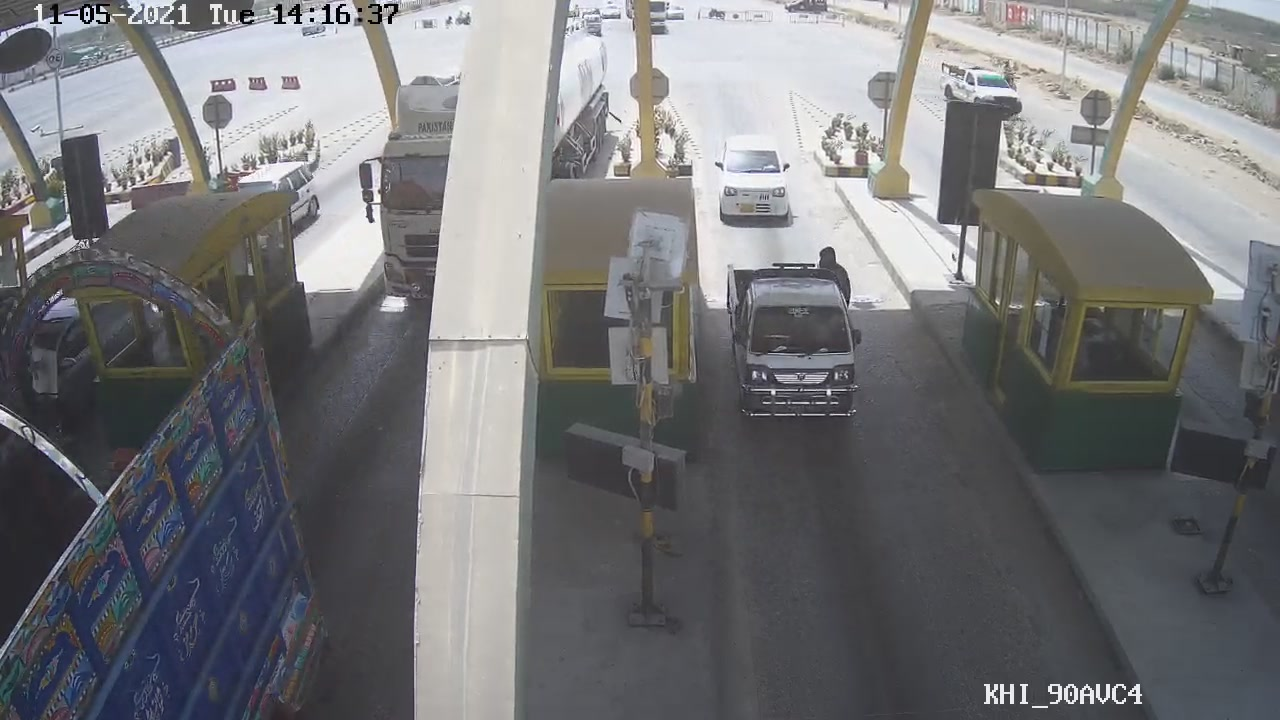F1: (725, 246, 868, 431)
